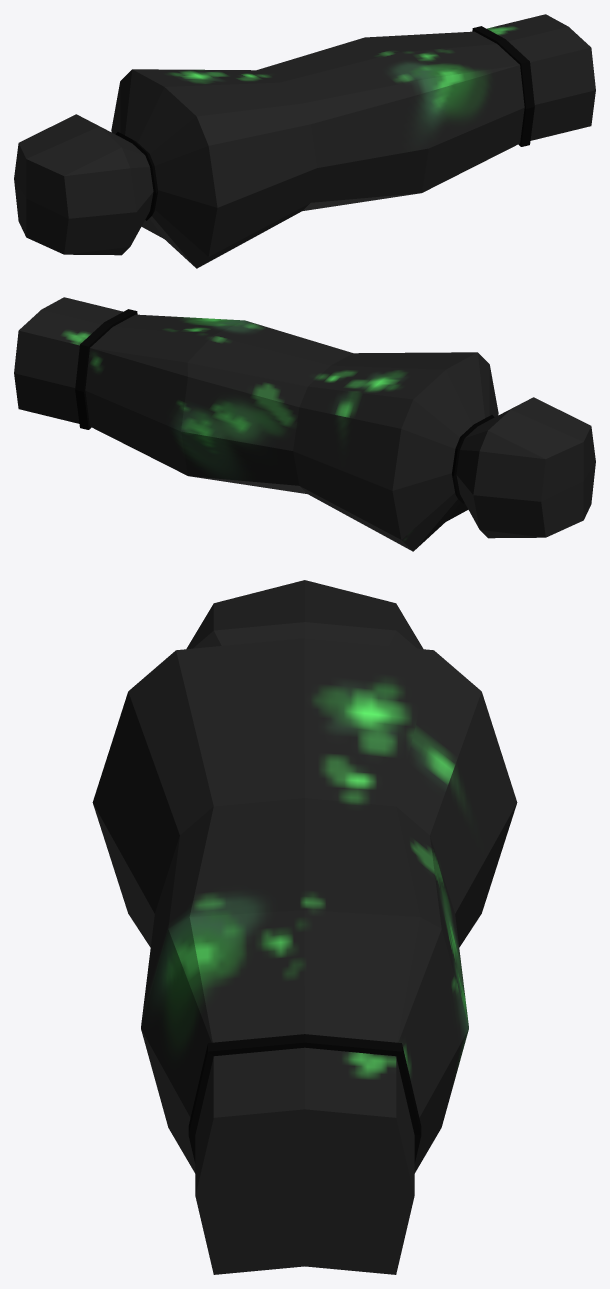
File: poorLesh.glb
3 views of the same model, one above another, from view 1: azimuth 30°, elevation 25°; view 2: azimuth 150°, elevation 25°; view 3: azimuth 270°, elevation 25° (orthographic). The views are drawn at different scales.
Visible parts, largest first — view 1: Cube.006; view 2: Cube.006; view 3: Cube.006.
Boxes of the visible parts, x1,y1,x2,y2 form: Cube.006: (14,14,595,268); Cube.006: (14,297,595,551); Cube.006: (92,580,517,1274).
Bounding box in the file's own units: 7.85 × 2.19 × 2.66.
Materials: 2 (1 with a texture image).
